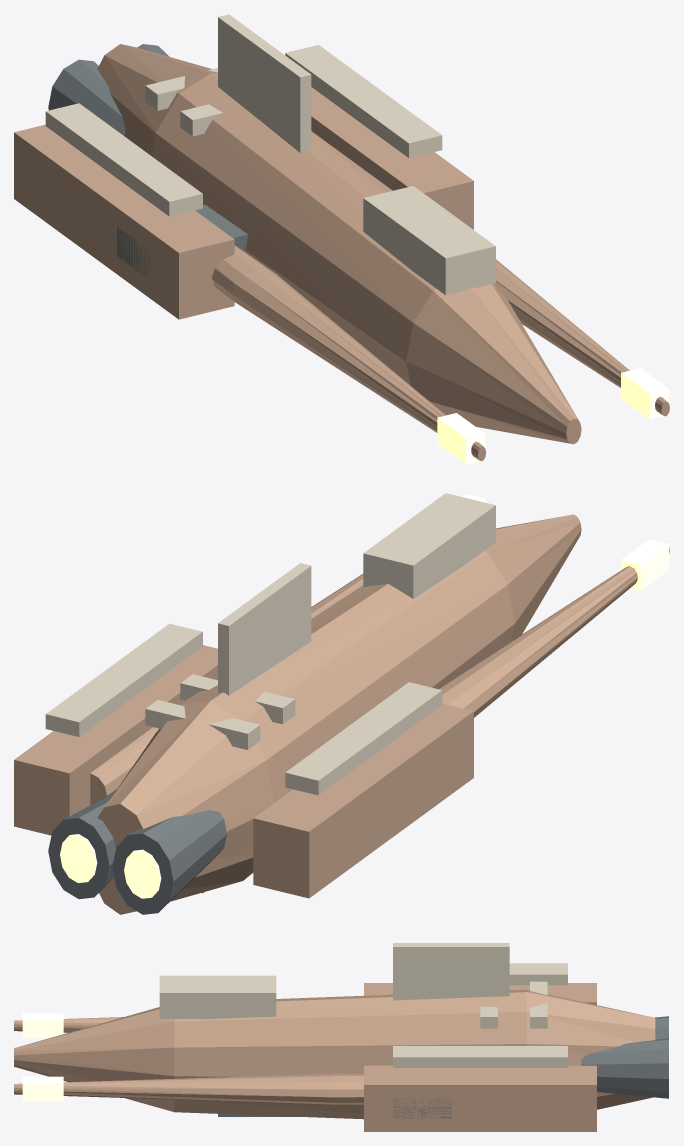
3 views of the same model, one above another, from view 1: azimuth 30°, elevation 25°; view 2: azimuth 150°, elevation 25°; view 3: azimuth 270°, elevation 25° (orthographic). The views are drawn at different scales.
Size of the model in its own units: 1.8 by 1.47 by 4.9.
